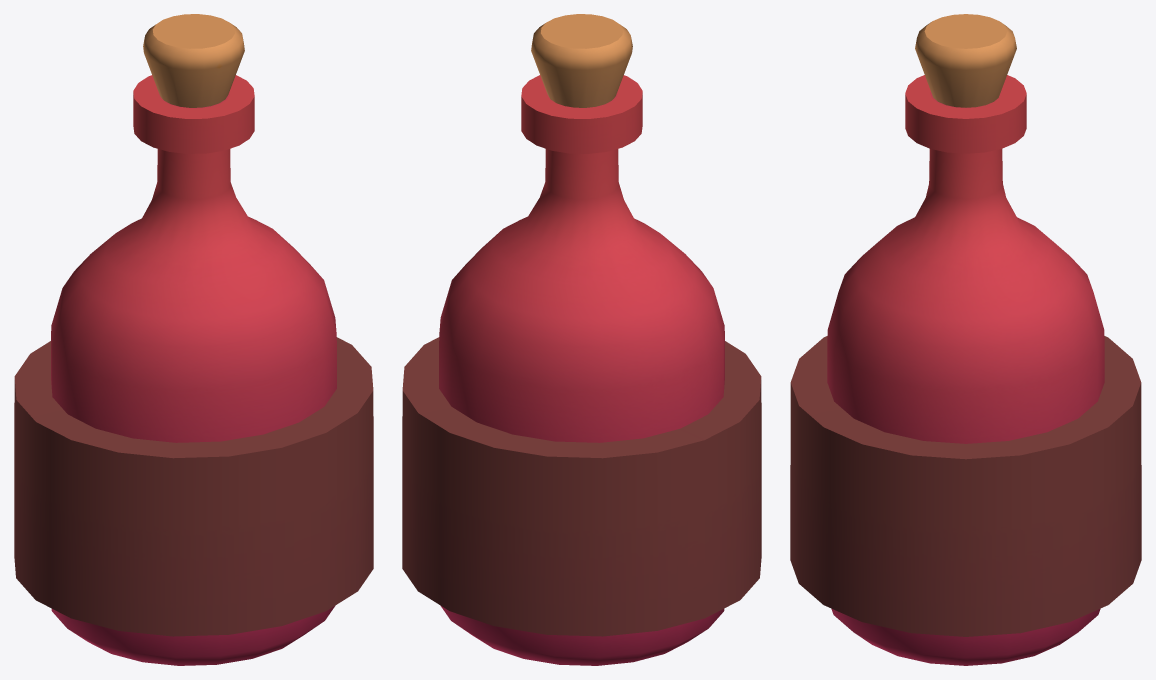
The model's file is bottle.fbx.
3 views of the same model, side by side, from view 1: azimuth 30°, elevation 25°; view 2: azimuth 150°, elevation 25°; view 3: azimuth 270°, elevation 25° (orthographic).
Visible parts, largest first — view 1: bottle; view 2: bottle; view 3: bottle.
Boxes of the visible parts, box(x1,y1,x2,y2) form: bottle: box(14, 14, 373, 665); bottle: box(402, 14, 761, 665); bottle: box(790, 14, 1141, 665).
Size of the model in its own units: 0.2817 by 0.4971 by 0.2715.
